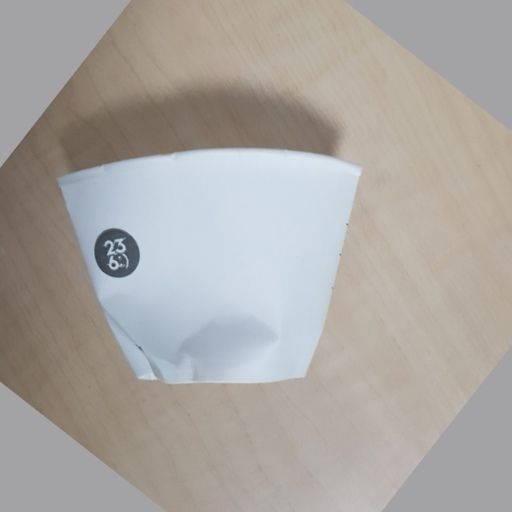Paper_1: (53, 142, 363, 385)
